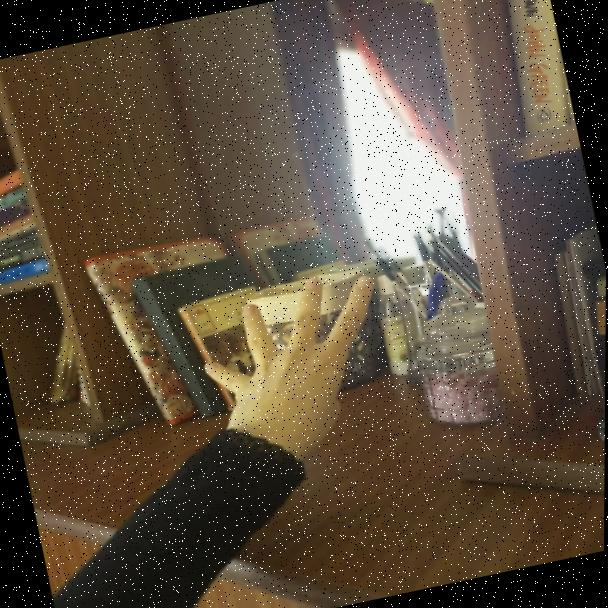four: (155, 249, 431, 490)
